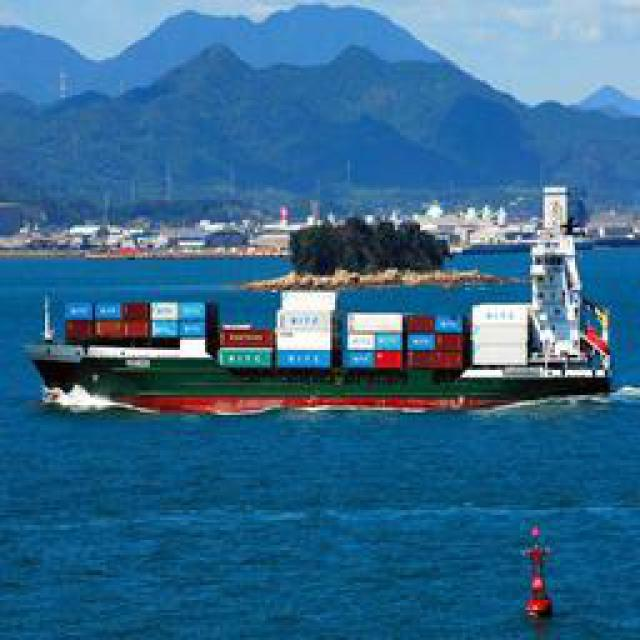Ship: (25, 210, 628, 418)
